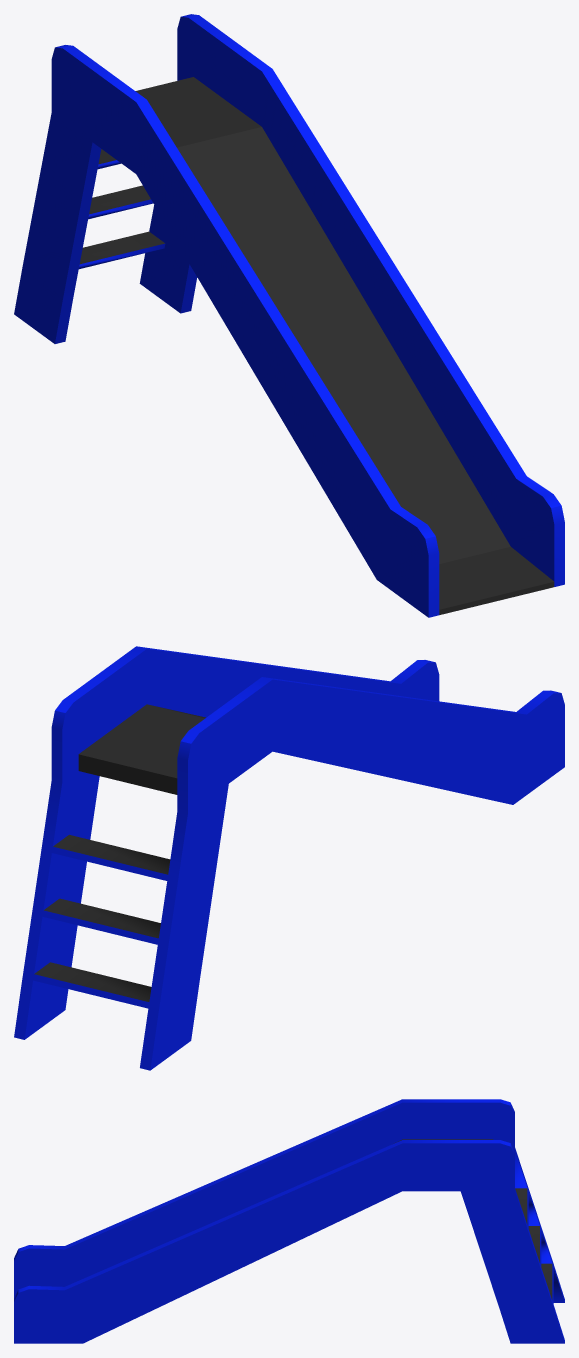
Rendered from Slide.obj.
The picture shows the model from 3 angles, top to bottom: view 1: azimuth 30°, elevation 25°; view 2: azimuth 150°, elevation 25°; view 3: azimuth 270°, elevation 25°; orthographic projection. The views are drawn at different scales.
Parts seen in each view (by area): view 1: Slide; view 2: Slide; view 3: Slide.
Boxes of the visible parts, bbox=[...] form: Slide: bbox=[14, 14, 564, 617]; Slide: bbox=[14, 646, 564, 1070]; Slide: bbox=[14, 1099, 564, 1343].
Bounding box in the file's own units: 107 × 227 × 566.
